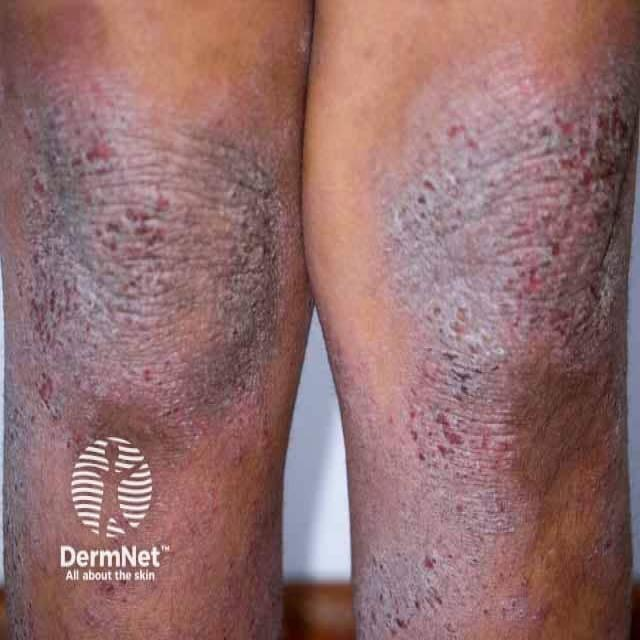Eczema: (5, 35, 282, 620), (377, 51, 629, 627)
